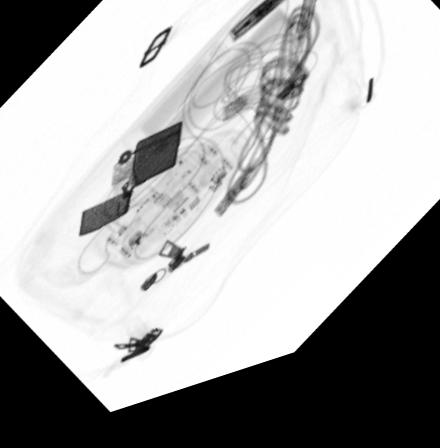Lighter: (78, 131, 183, 241)
